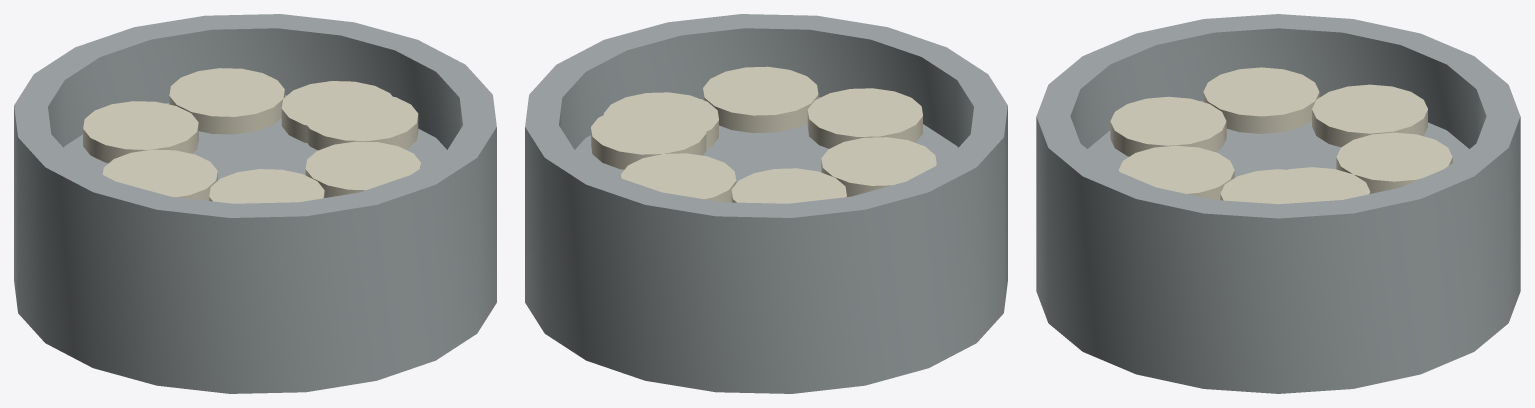
File: scavengers-loot-library-button-tin-6eaaadd5__2675.glb
The picture shows the model from 3 angles, left to right: view 1: azimuth 30°, elevation 25°; view 2: azimuth 150°, elevation 25°; view 3: azimuth 270°, elevation 25°; orthographic projection.
Visible parts, largest first — view 1: button-tin; view 2: button-tin; view 3: button-tin.
Boxes of the visible parts, x1,y1,x2,y2 form: button-tin: [14, 14, 496, 393]; button-tin: [525, 14, 1007, 393]; button-tin: [1036, 14, 1520, 393].
Bounding box in the file's own units: 0.1 × 0.04 × 0.1.
